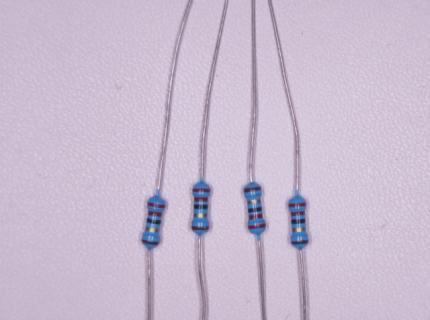Black band: (146, 217, 161, 225), (247, 207, 263, 214), (193, 204, 209, 210), (291, 219, 306, 224)
Brown band: (141, 238, 160, 246), (244, 187, 262, 193), (290, 240, 309, 245), (191, 226, 209, 231)
Gold band: (145, 226, 159, 233), (246, 199, 261, 205), (193, 213, 208, 218), (292, 227, 306, 232)
Red band: (147, 201, 166, 209), (248, 223, 267, 230), (147, 210, 163, 218), (290, 211, 305, 217), (248, 214, 263, 220), (192, 188, 211, 192), (194, 197, 209, 202), (288, 203, 306, 207)
